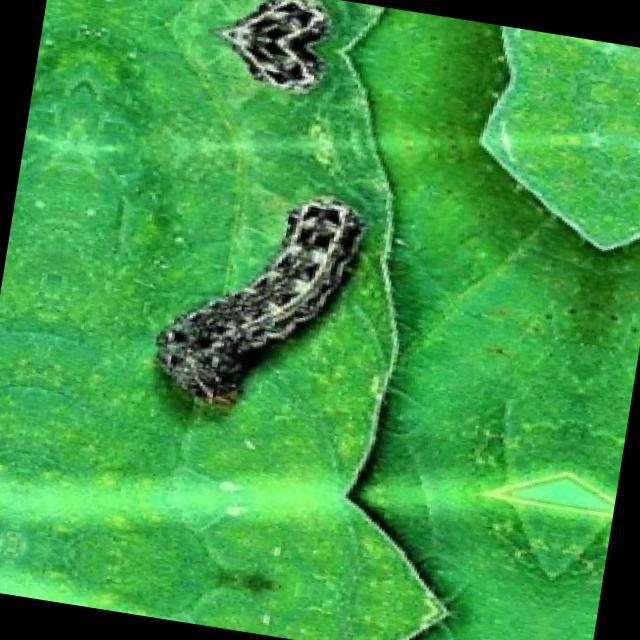Armyworm: (107, 169, 398, 434)
